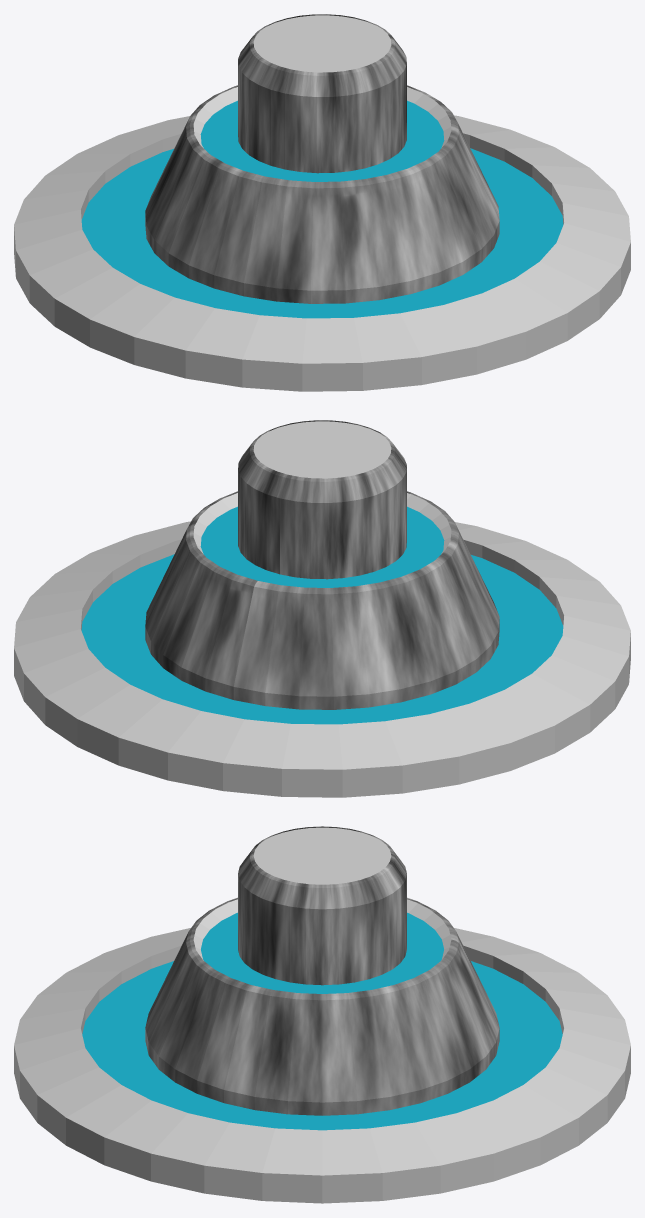
The model's file is fountain.fbx.
3 renders of one model, top to bottom at view 1: azimuth 30°, elevation 25°; view 2: azimuth 150°, elevation 25°; view 3: azimuth 270°, elevation 25°, orthographic.
Visible parts, largest first — view 1: fountain_body, fountain_fall, waterbody1; view 2: fountain_body, fountain_fall, waterbody1; view 3: fountain_body, fountain_fall, waterbody1.
Boxes of the visible parts, left/top/right/bottom form: fountain_body: left=14, top=15, right=630, bottom=391; fountain_fall: left=145, top=14, right=499, bottom=303; waterbody1: left=81, top=100, right=563, bottom=318; fountain_body: left=14, top=421, right=630, bottom=797; fountain_fall: left=145, top=420, right=499, bottom=709; waterbody1: left=81, top=506, right=563, bottom=724; fountain_body: left=14, top=827, right=630, bottom=1203; fountain_fall: left=145, top=826, right=499, bottom=1115; waterbody1: left=82, top=912, right=562, bottom=1130.
Bounding box in the file's own units: 610 × 237 × 610.
